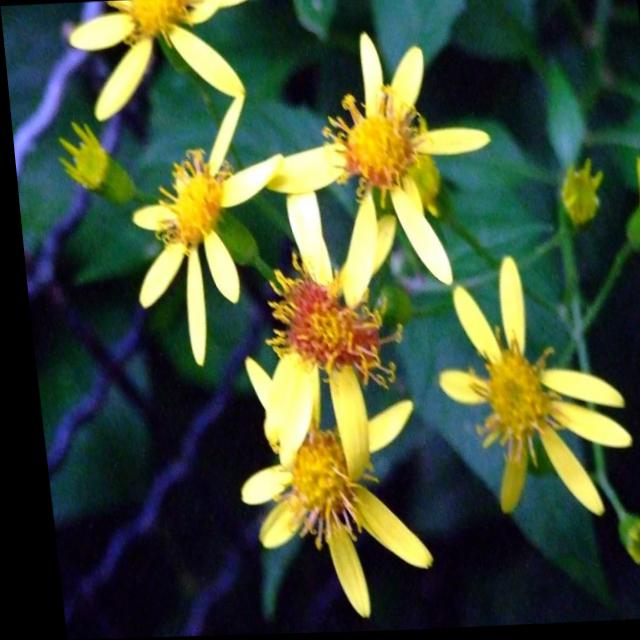Flower: (242, 348, 444, 613), (233, 170, 404, 482), (291, 29, 490, 295), (444, 251, 626, 538), (102, 132, 276, 348)
